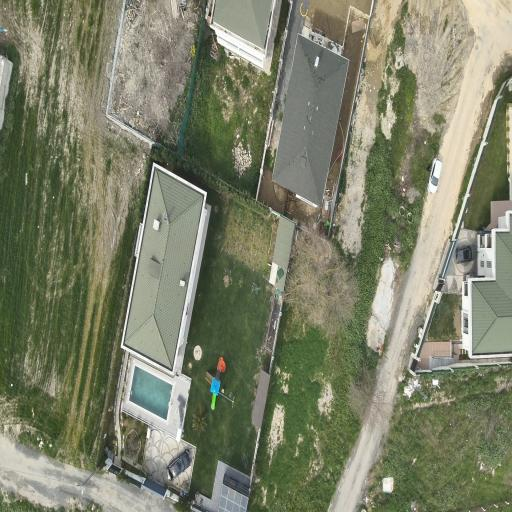car: (167, 450, 191, 479), (428, 158, 441, 193), (456, 247, 472, 263)
